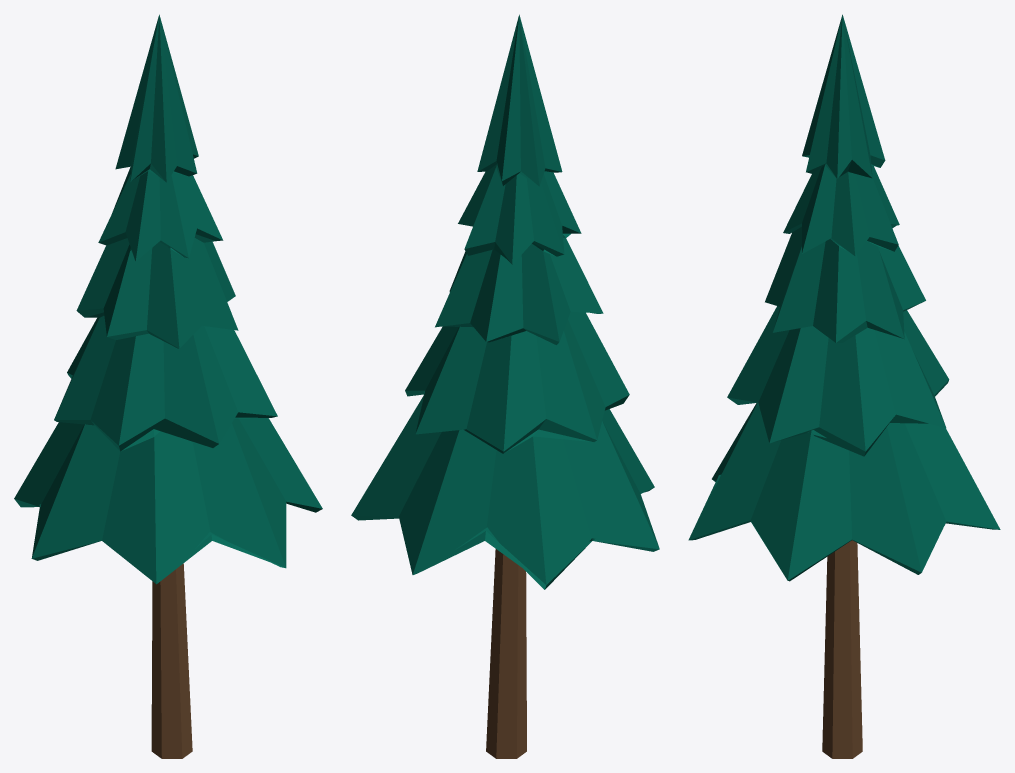
File: PineTree.004.fbx
3 renders of one model, left to right at view 1: azimuth 30°, elevation 25°; view 2: azimuth 150°, elevation 25°; view 3: azimuth 270°, elevation 25°, orthographic.
Parts seen in each view (by area): view 1: PineTree.004; view 2: PineTree.004; view 3: PineTree.004.
Boxes of the visible parts, left/top/right/bottom form: PineTree.004: left=14, top=14, right=322, bottom=758; PineTree.004: left=351, top=14, right=659, bottom=758; PineTree.004: left=688, top=14, right=1000, bottom=758.
Size of the model in its own units: 759 by 1989 by 770.
